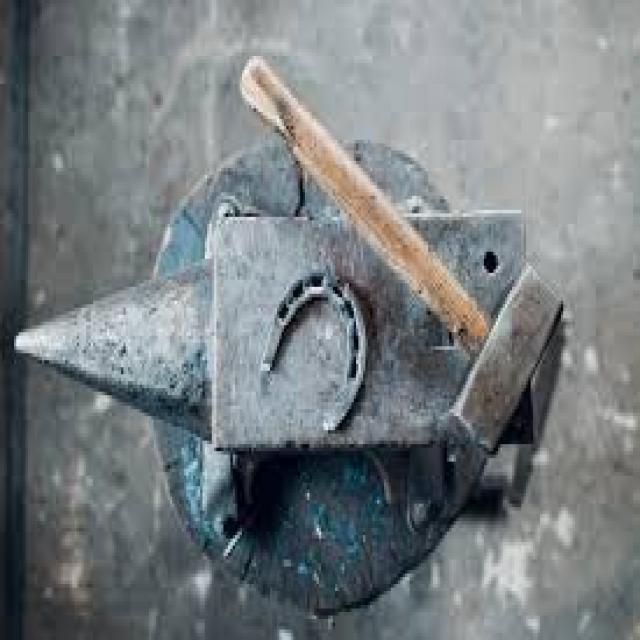hammer: (236, 52, 569, 454)
